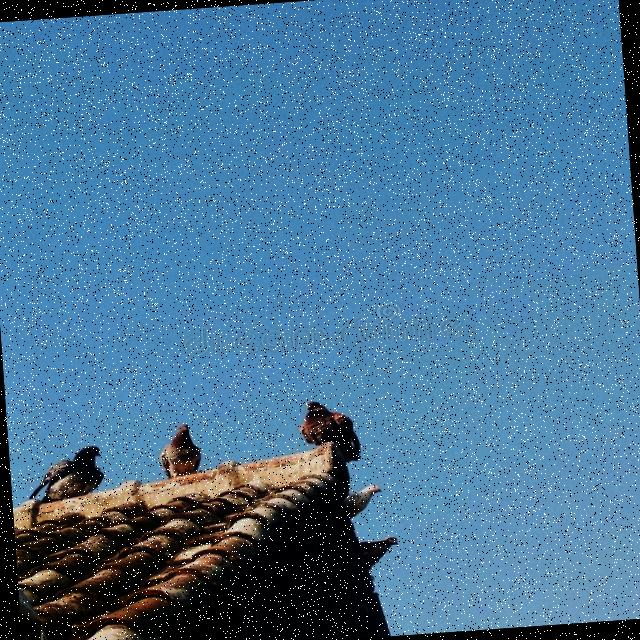bird: (22, 444, 108, 506), (296, 396, 362, 466), (156, 422, 205, 479), (340, 483, 384, 519)
